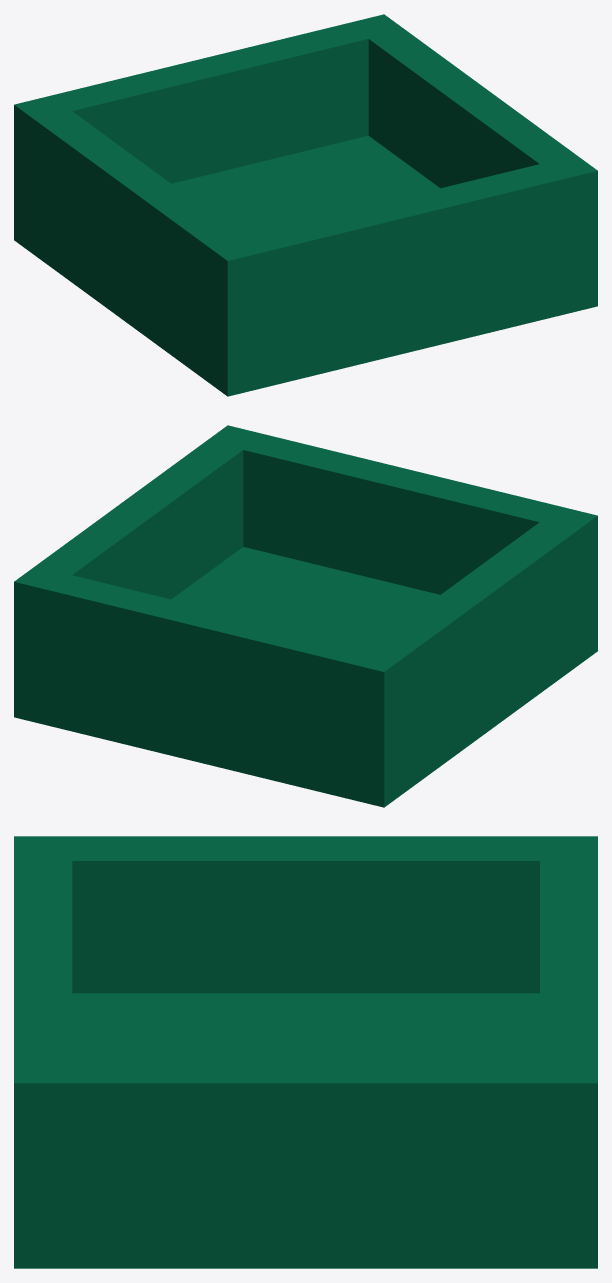
Rendered from GreenRoof_4Edges_Small.glb.
3 renders of one model, top to bottom at view 1: azimuth 30°, elevation 25°; view 2: azimuth 150°, elevation 25°; view 3: azimuth 270°, elevation 25°, orthographic. The views are drawn at different scales.
Visible parts, largest first — view 1: roof_flat_4Edges_small_green; view 2: roof_flat_4Edges_small_green; view 3: roof_flat_4Edges_small_green.
Part boxes in pixels (left/top/right/bottom): roof_flat_4Edges_small_green: left=14, top=14, right=597, bottom=396; roof_flat_4Edges_small_green: left=14, top=425, right=597, bottom=807; roof_flat_4Edges_small_green: left=14, top=836, right=597, bottom=1268.
Size of what is drawn, in the model's own units: 2 by 0.7 by 2.
1 material, 1 textured.
